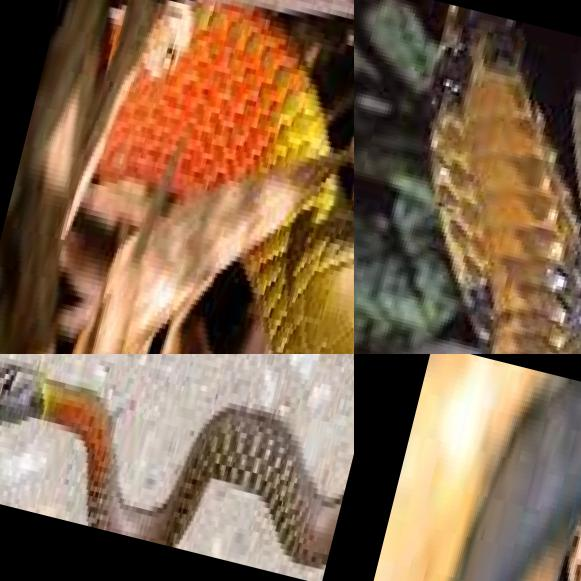snake: (0, 0, 354, 354), (354, 0, 581, 354), (0, 354, 354, 581), (453, 378, 581, 581)
